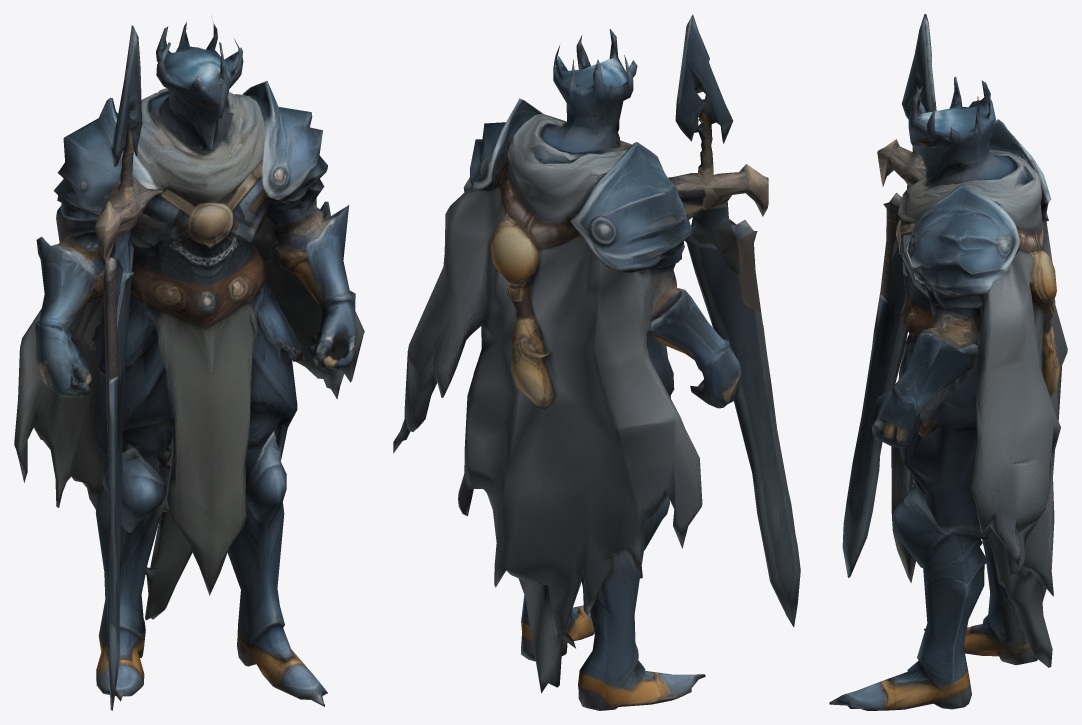
File: ash_crown.glb
The picture shows the model from 3 angles, left to right: view 1: azimuth 30°, elevation 25°; view 2: azimuth 150°, elevation 25°; view 3: azimuth 270°, elevation 25°; orthographic projection. The views are drawn at different scales.
Bounding box in the file's own units: 1.01 × 2 × 0.6896.
Materials: 1 (1 with a texture image).
